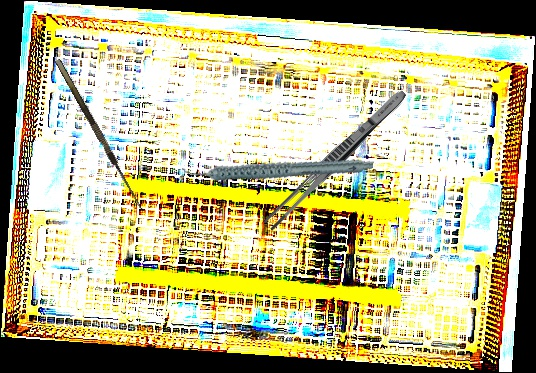Dressing Forceps: (262, 85, 410, 234)
Handpiece: (180, 124, 375, 210)
Hook Surgical: (54, 54, 153, 214)
